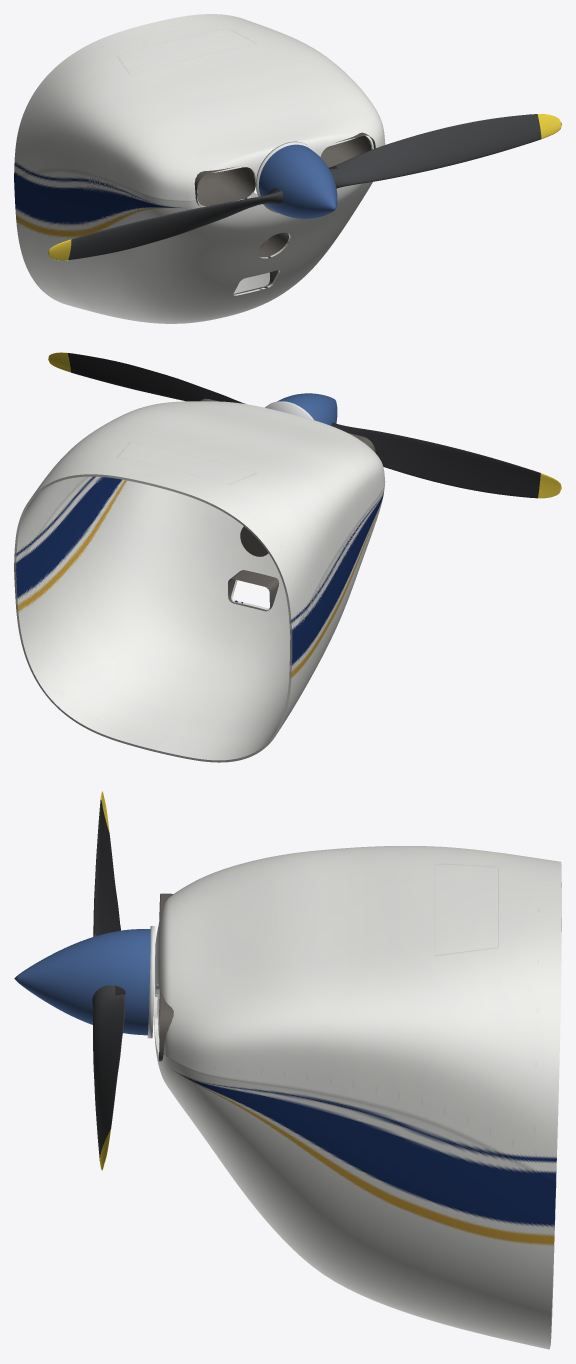
File: POWERPLANT.glb
3 renders of one model, top to bottom at view 1: azimuth 30°, elevation 25°; view 2: azimuth 150°, elevation 25°; view 3: azimuth 270°, elevation 25°, orthographic. The views are drawn at different scales.
Visible parts, largest first — view 1: POWERPLANT.cowl_upper, POWERPLANT.cowl_lower, POWERPLANT.propeller, POWERPLANT.spinner, POWERPLANT.inlet_duct_R, POWERPLANT.inlet_duct_L, POWERPLANT.landing_light_recess, POWERPLANT.spinner_backplate; view 2: POWERPLANT.cowl_lower, POWERPLANT.cowl_upper, POWERPLANT.propeller, POWERPLANT.spinner, INDUCTION.air_inlet_duct; view 3: POWERPLANT.cowl_upper, POWERPLANT.cowl_lower, POWERPLANT.spinner, POWERPLANT.propeller.
Boxes of the visible parts, left/top/right/bottom form: POWERPLANT.cowl_upper: left=14, top=14, right=385, bottom=200; POWERPLANT.cowl_lower: left=14, top=170, right=372, bottom=323; POWERPLANT.propeller: left=48, top=114, right=561, bottom=260; POWERPLANT.spinner: left=259, top=144, right=337, bottom=218; POWERPLANT.inlet_duct_R: left=194, top=166, right=255, bottom=206; POWERPLANT.inlet_duct_L: left=320, top=132, right=375, bottom=167; POWERPLANT.landing_light_recess: left=258, top=232, right=288, bottom=257; POWERPLANT.spinner_backplate: left=255, top=141, right=318, bottom=213; POWERPLANT.cowl_lower: left=14, top=476, right=384, bottom=762; POWERPLANT.cowl_upper: left=14, top=401, right=385, bottom=635; POWERPLANT.propeller: left=48, top=352, right=561, bottom=498; POWERPLANT.spinner: left=277, top=393, right=337, bottom=425; INDUCTION.air_inlet_duct: left=228, top=570, right=279, bottom=611; POWERPLANT.cowl_upper: left=155, top=846, right=561, bottom=1181; POWERPLANT.cowl_lower: left=153, top=971, right=556, bottom=1349; POWERPLANT.spinner: left=14, top=929, right=150, bottom=1035; POWERPLANT.propeller: left=92, top=791, right=125, bottom=1170.
Bounding box in the file's own units: 1.9 × 0.962 × 1.18.
Materials: 8 (1 with a texture image).
